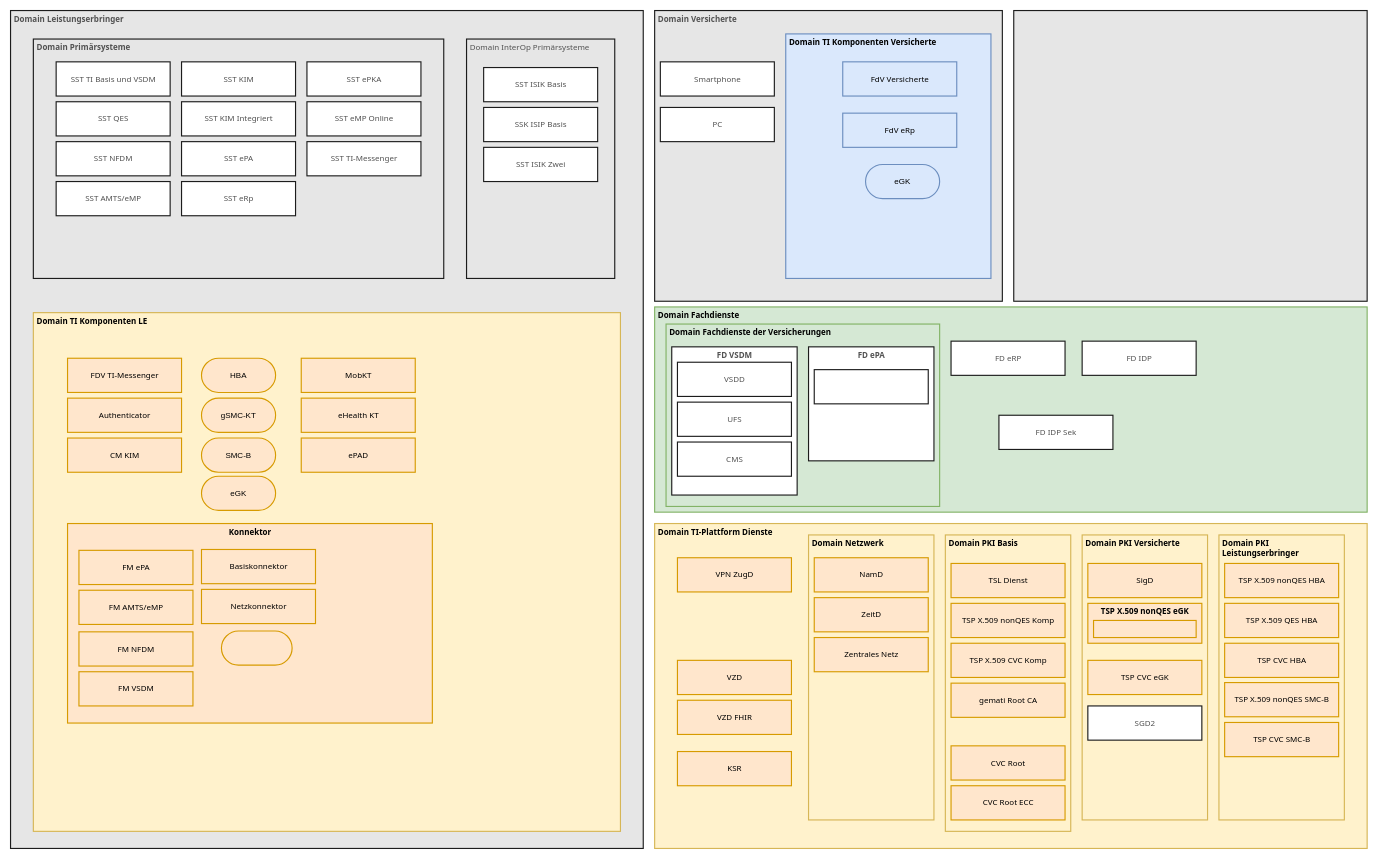
Some shapes in this 1377 by 858 pixel diagram are drawn without their labels. Here are the shapes that lost their labels. From the top down, the centre of each, then its label:
At point (1190, 156): "Domain 3rd Party".
At point (871, 386): "Aktensystem".
At point (256, 647): "gSMC-K".
At point (1144, 629): "OCSP Responder".
